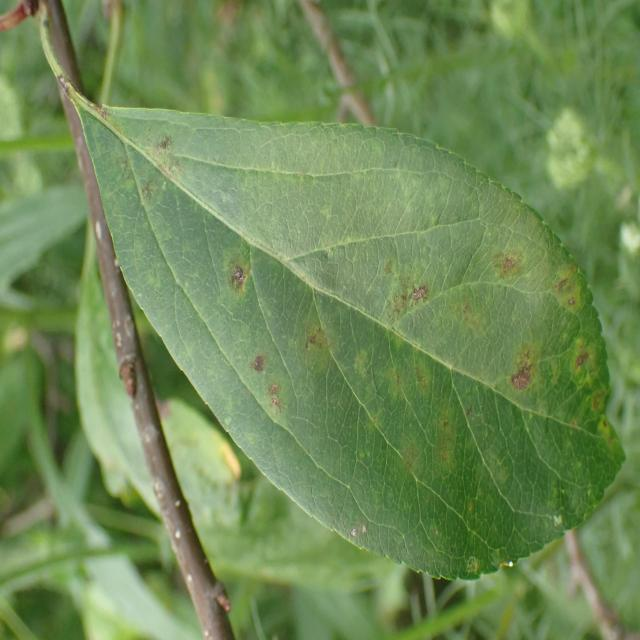scab: (114, 88, 622, 513)
